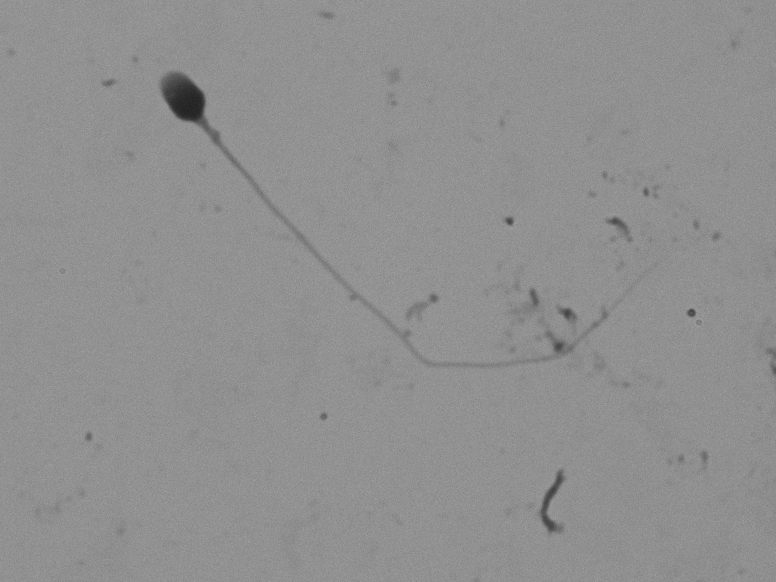Normal: (85, 46, 693, 416)
